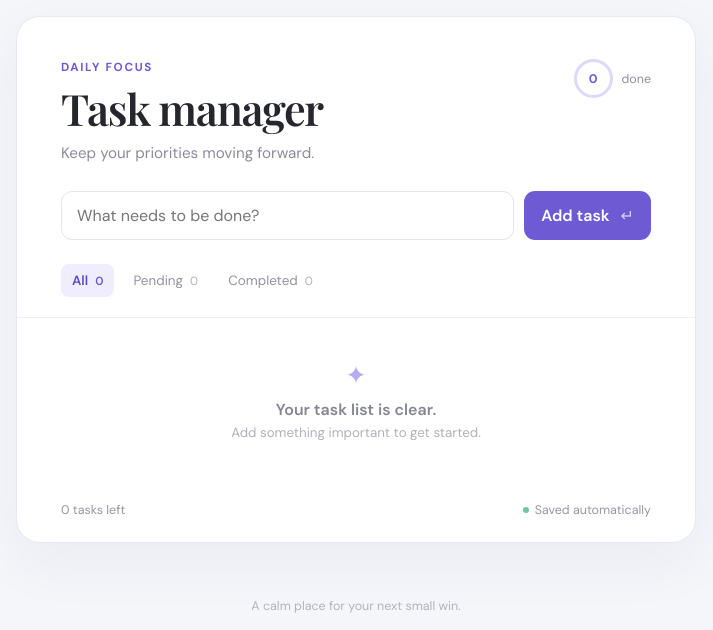
Test case: task manager › edits a task
Type "Draft the release notes" into the field named "Add a task" at coordinates (288, 215), box [61, 191, 514, 240]
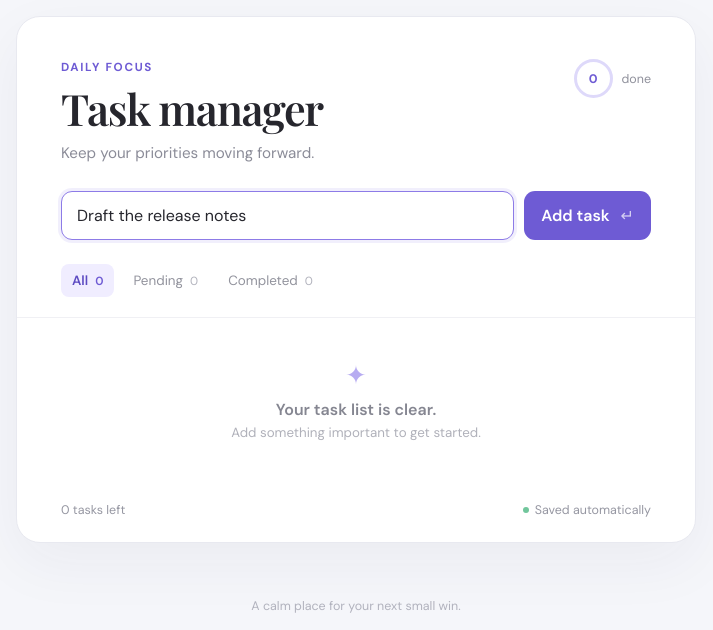
Click the button "Add task ↵" at coordinates (588, 215), box [524, 191, 651, 240]
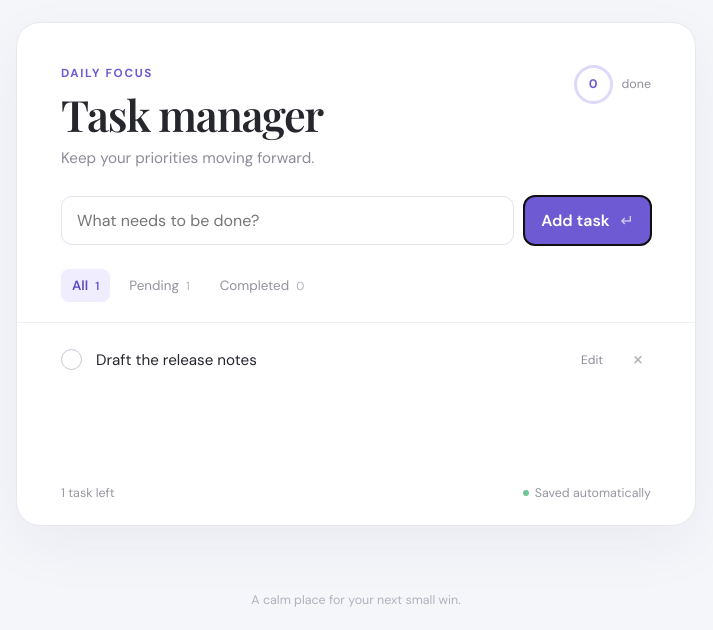
Click the button with aria-label "Edit Draft the release notes" at coordinates (592, 360), box [573, 347, 611, 373]
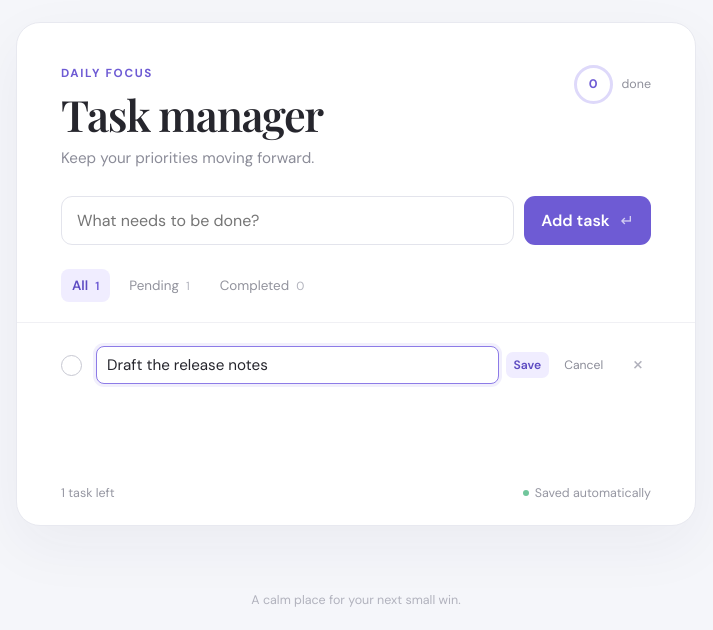
Replace the text in the field named "Edit task" with "Publish the release notes" at coordinates (297, 365), box [96, 346, 498, 384]
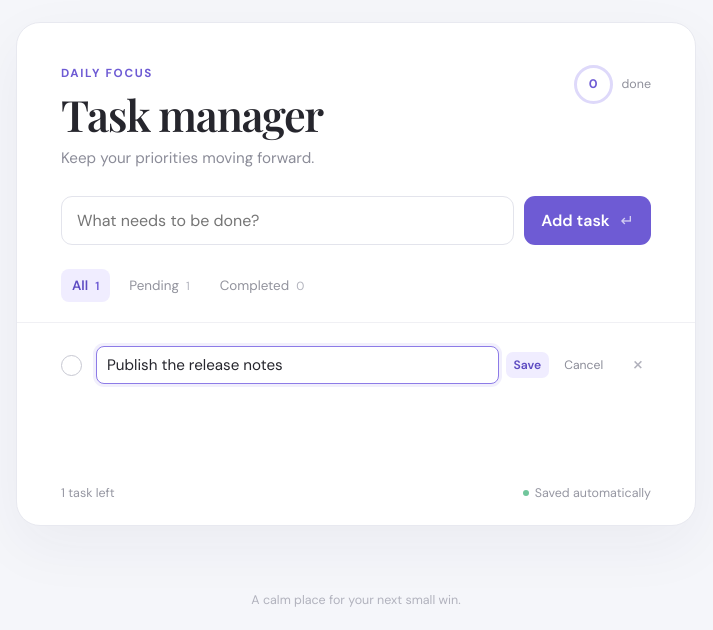
Click the button "Save" at coordinates (527, 365), box [506, 352, 549, 378]
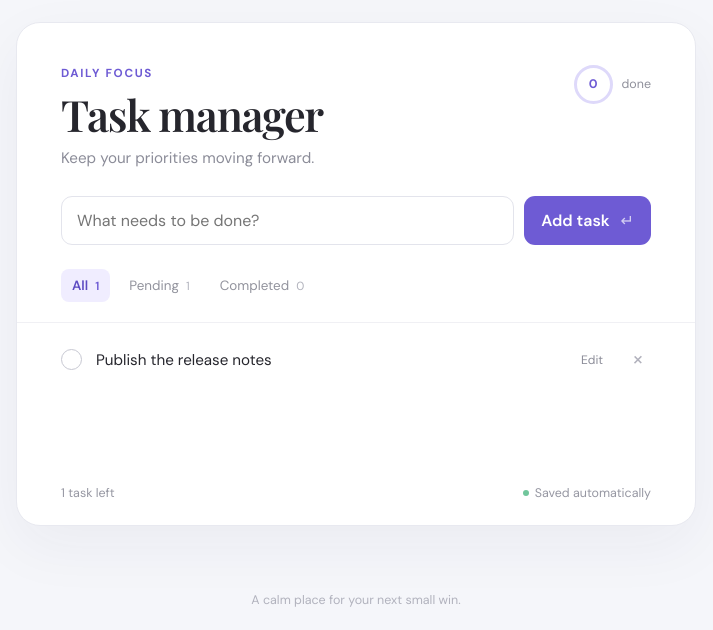
Expected: the text "Draft the release notes" is not shown
Expected: the text "Publish the release notes" is shown, [96, 350, 272, 370]
